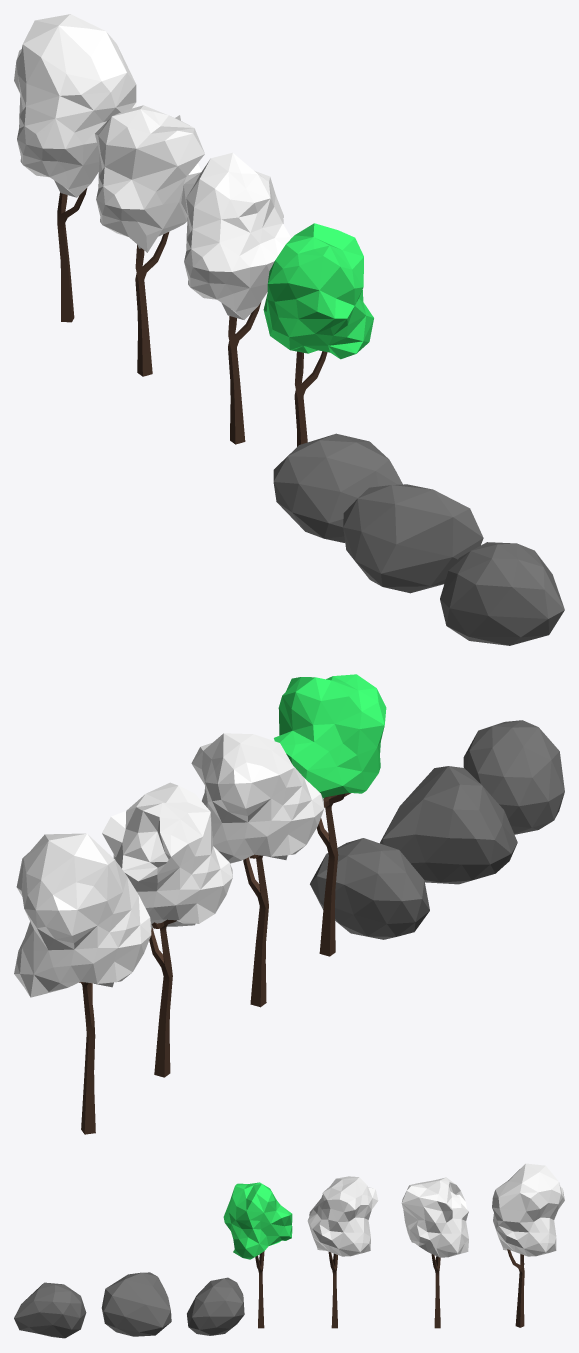
File: foliage (3).fbx
The picture shows the model from 3 angles, top to bottom: view 1: azimuth 30°, elevation 25°; view 2: azimuth 150°, elevation 25°; view 3: azimuth 270°, elevation 25°; orthographic projection. The views are drawn at different scales.
Parts seen in each view (by area): view 1: Cube.004, Cube.002, Cube.003, Cube, Icosphere.001, Icosphere.002, Icosphere; view 2: Cube.004, Cube.003, Cube.002, Cube, Icosphere.001, Icosphere, Icosphere.002; view 3: Cube.004, Cube.003, Cube.002, Cube, Icosphere.001, Icosphere.002, Icosphere.
Part boxes in pixels (x1=…): Cube.004: x1=14, y1=14, x2=136, y2=322; Cube.002: x1=181, y1=152, x2=291, y2=444; Cube.003: x1=95, y1=105, x2=204, y2=376; Cube: x1=263, y1=223, x2=373, y2=446; Icosphere.001: x1=343, y1=484, x2=483, y2=593; Icosphere.002: x1=440, y1=542, x2=564, y2=645; Icosphere: x1=273, y1=433, x2=402, y2=542; Cube.004: x1=14, y1=833, x2=151, y2=1134; Cube.003: x1=102, y1=782, x2=232, y2=1077; Cube.002: x1=191, y1=733, x2=324, y2=1007; Cube: x1=274, y1=674, x2=386, y2=956; Icosphere.001: x1=380, y1=766, x2=517, y2=884; Icosphere: x1=310, y1=838, x2=429, y2=939; Icosphere.002: x1=463, y1=720, x2=564, y2=834; Cube.004: x1=492, y1=1163, x2=564, y2=1327; Cube.003: x1=401, y1=1177, x2=468, y2=1328; Cube.002: x1=307, y1=1176, x2=378, y2=1328; Cube: x1=223, y1=1182, x2=292, y2=1328; Icosphere.001: x1=101, y1=1272, x2=171, y2=1336; Icosphere.002: x1=14, y1=1282, x2=86, y2=1338; Icosphere: x1=187, y1=1277, x2=244, y2=1335.
Size of the model in its own units: 266 by 650 by 1916.
